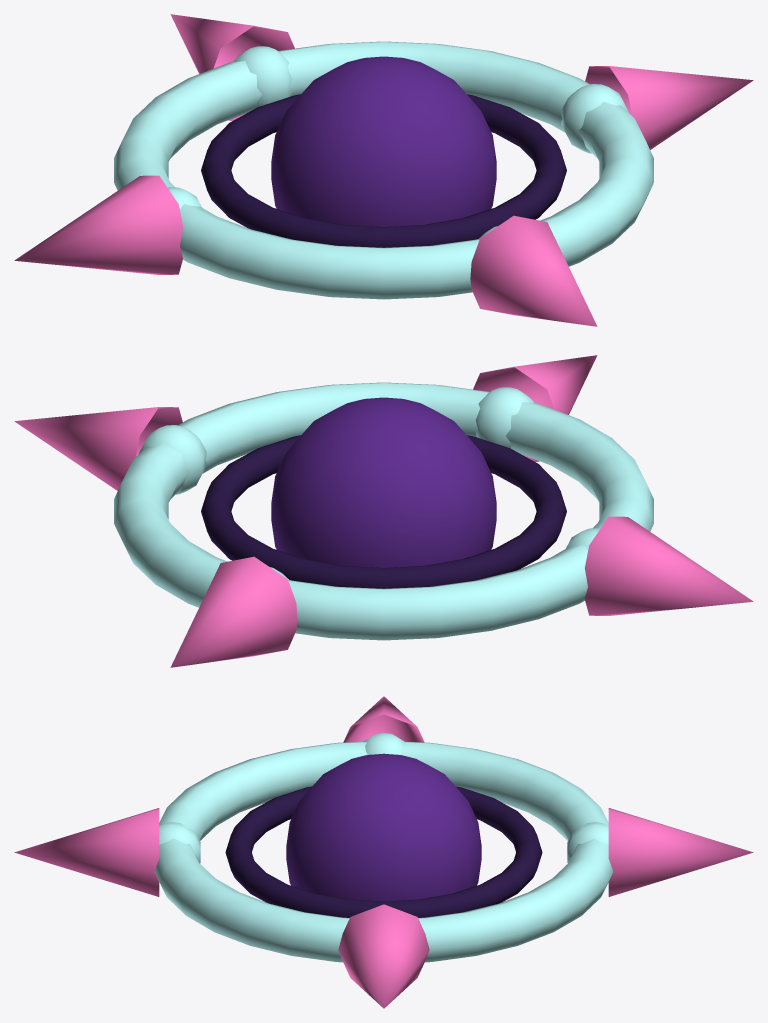
File: boss3.glb
3 renders of one model, top to bottom at view 1: azimuth 30°, elevation 25°; view 2: azimuth 150°, elevation 25°; view 3: azimuth 270°, elevation 25°, orthographic. The views are drawn at different scales.
Visible parts, largest first — view 1: boss3; view 2: boss3; view 3: boss3.
Boxes of the visible parts, x1,y1,x2,y2 form: boss3: (14, 14, 753, 326); boss3: (14, 355, 753, 667); boss3: (14, 696, 753, 1008).
Size of the model in its own units: 56 by 15 by 56.
1 material, 1 textured.
